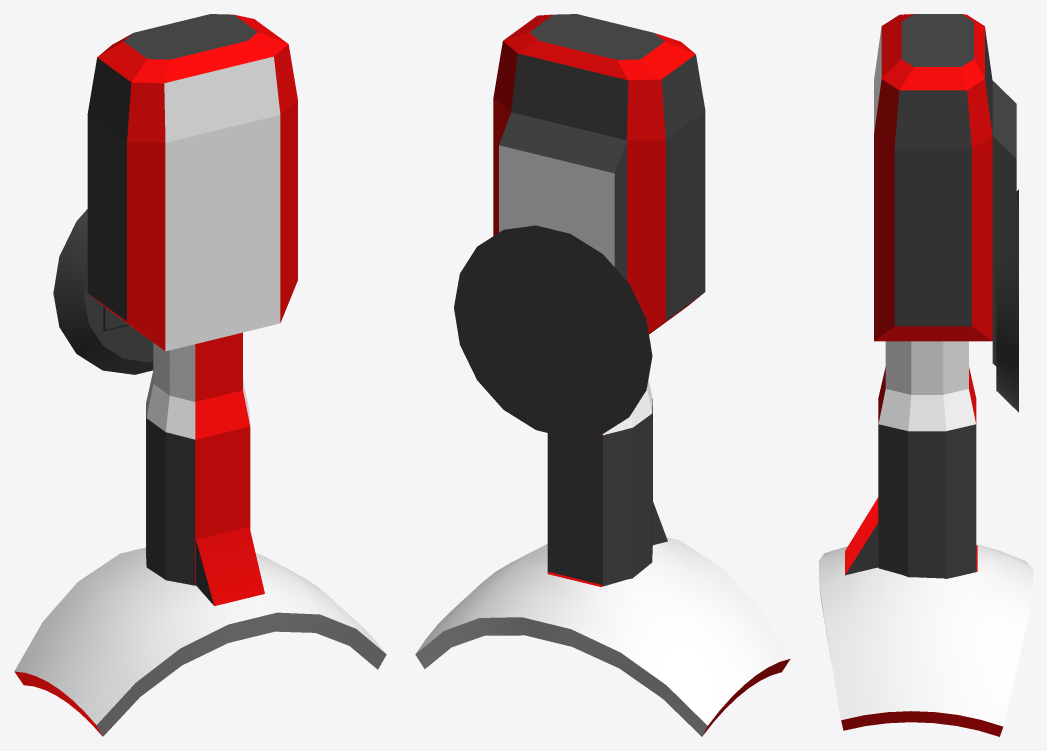
Rendered from emp.obj.
The picture shows the model from 3 angles, left to right: view 1: azimuth 30°, elevation 25°; view 2: azimuth 150°, elevation 25°; view 3: azimuth 270°, elevation 25°; orthographic projection. The views are drawn at different scales.
Visible parts, largest first — view 1: Box019, Box002, Box020, Cylinder033; view 2: Box019, Box002, Cylinder033, Box020; view 3: Box019, Box002, Box020, Cylinder033.
Boxes of the visible parts, <box> form: Box019: <box>87,14,297,351</box>; Box002: <box>14,526,386,736</box>; Box020: <box>146,332,250,585</box>; Cylinder033: <box>53,209,153,374</box>; Box019: <box>493,14,705,334</box>; Box002: <box>415,502,790,736</box>; Cylinder033: <box>454,225,652,438</box>; Box020: <box>547,379,652,586</box>; Box019: <box>874,14,1016,365</box>; Box002: <box>819,497,1032,736</box>; Box020: <box>878,341,976,578</box>; Cylinder033: <box>996,189,1018,412</box>.
Size of the model in its own units: 0.8914 by 1.86 by 0.5719.
